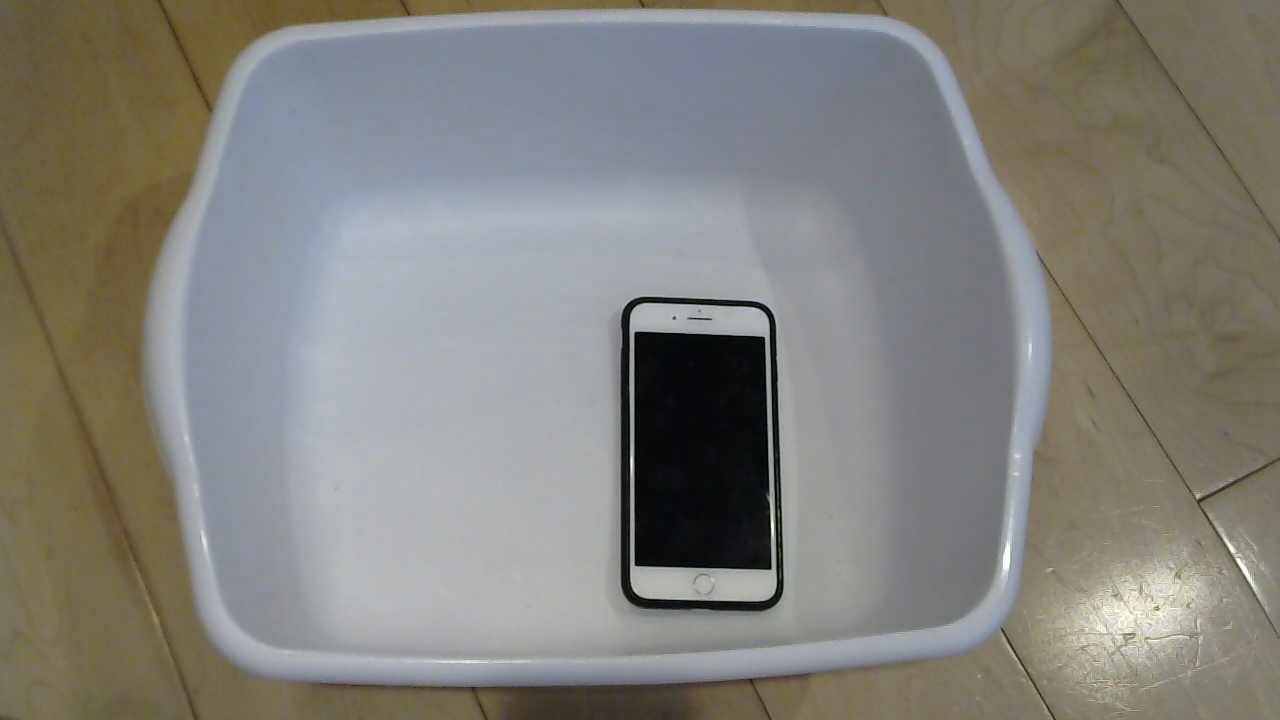phone: (605, 288, 796, 620)
